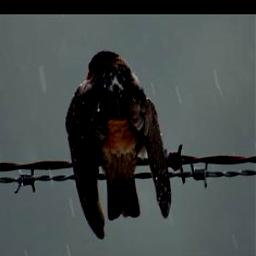Swallow: (64, 49, 173, 241)
